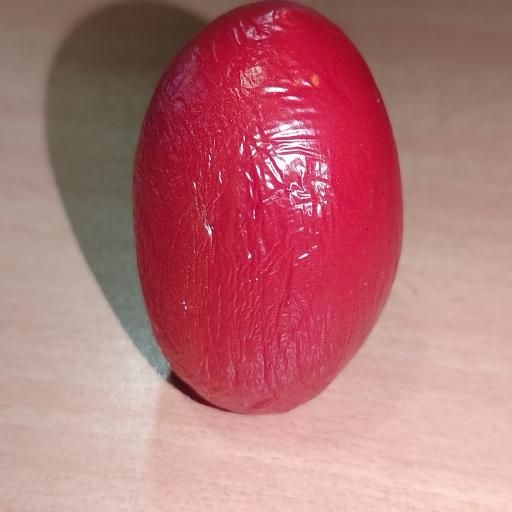spoiled: (133, 2, 403, 413)
